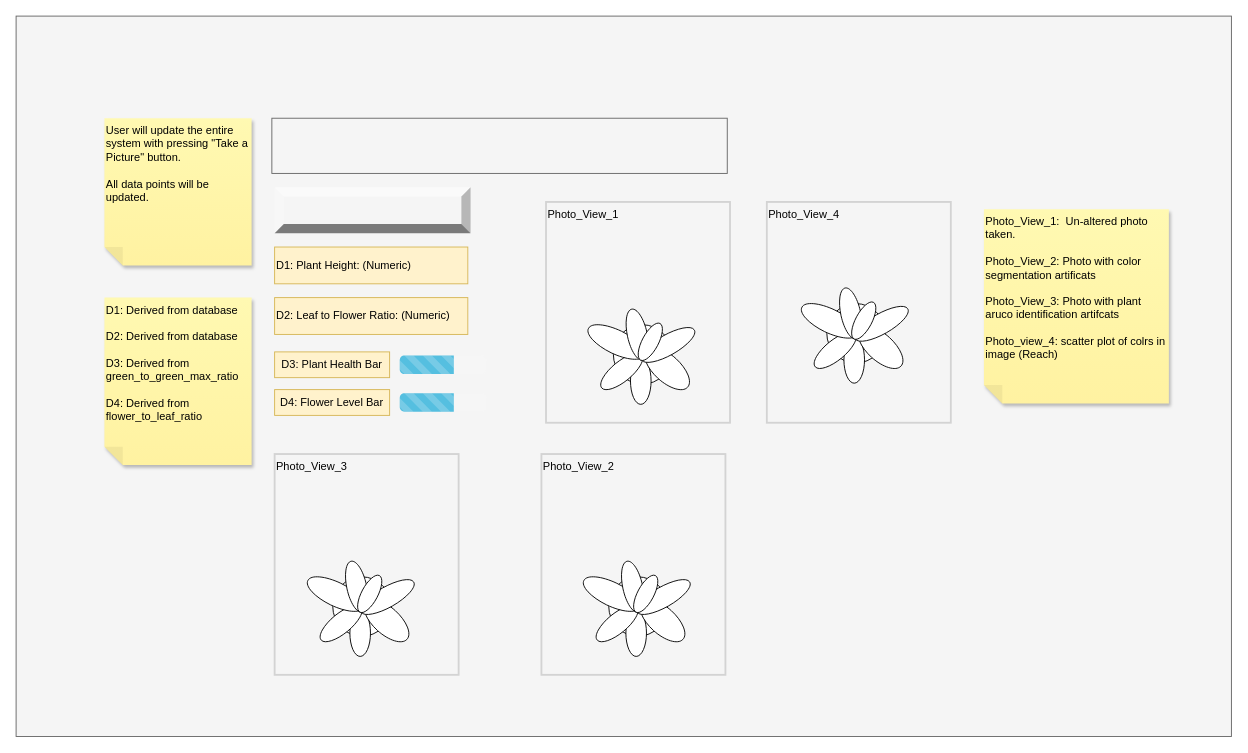
The diagram is 1248 pixels wide and 753 high, and some of its shapes have lost their labels. The shapes that lost their labels are listed below. From the top down, each one's centre as x and y in pixels, then its label:
At pixel 499 145: "My Plant Tracker".
At pixel 372 209: "Take a picture".
